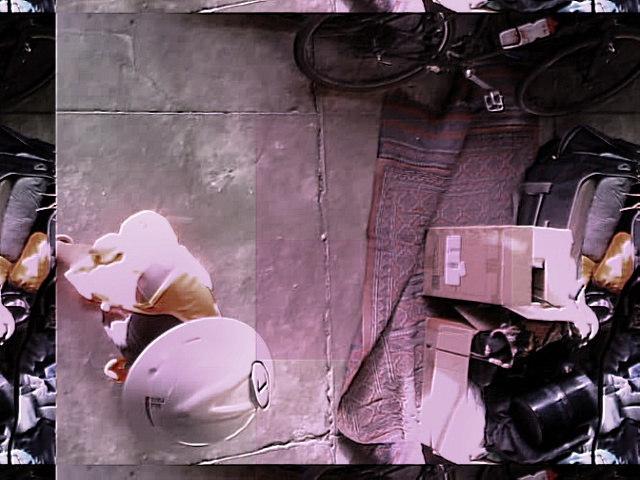one: (251, 361, 269, 407)
